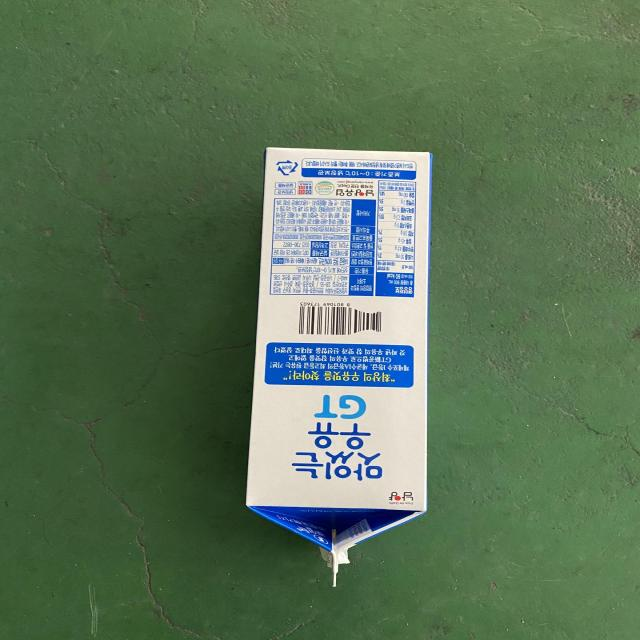paperpack: (246, 147, 432, 586)
